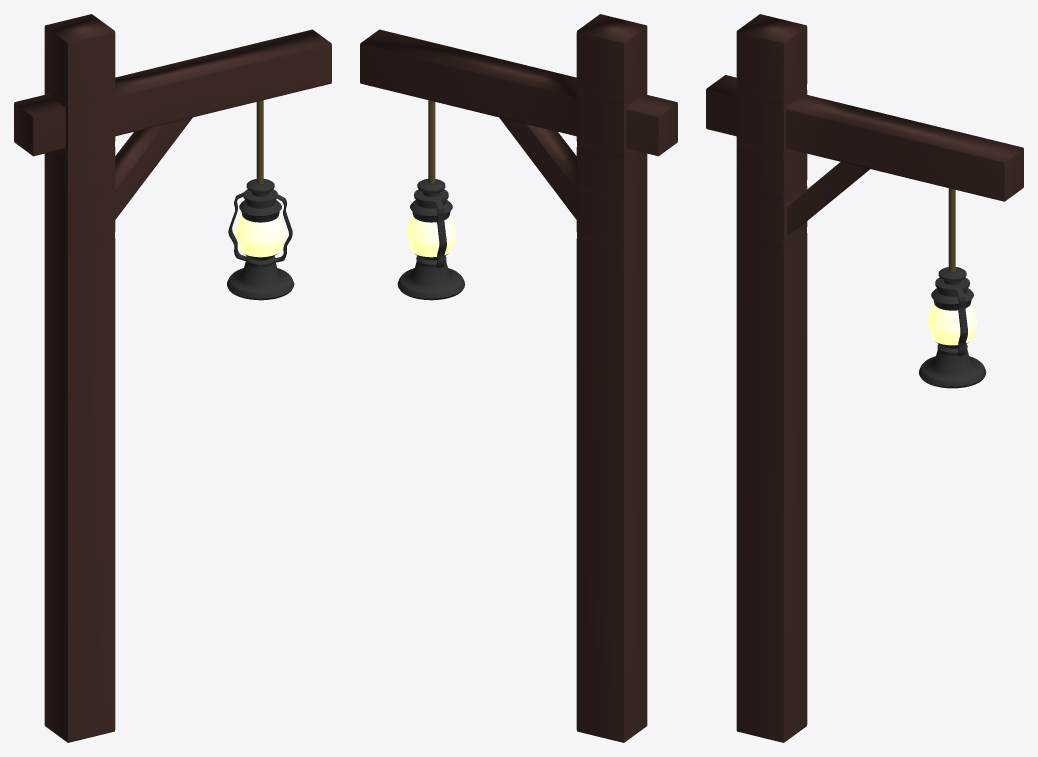
Rendered from LanternPost_RJ_0610.fbx.
The picture shows the model from 3 angles, left to right: view 1: azimuth 30°, elevation 25°; view 2: azimuth 150°, elevation 25°; view 3: azimuth 330°, elevation 25°; orthographic projection.
Visible parts, largest first — view 1: LanternPost_RJ_07-10; view 2: LanternPost_RJ_07-10; view 3: LanternPost_RJ_07-10.
Boxes of the visible parts, x1=… form: LanternPost_RJ_07-10: x1=14, y1=14, x2=331, y2=742; LanternPost_RJ_07-10: x1=360, y1=14, x2=677, y2=742; LanternPost_RJ_07-10: x1=706, y1=14, x2=1023, y2=742.
Bounding box in the file's own units: 116 × 261 × 22.74.
